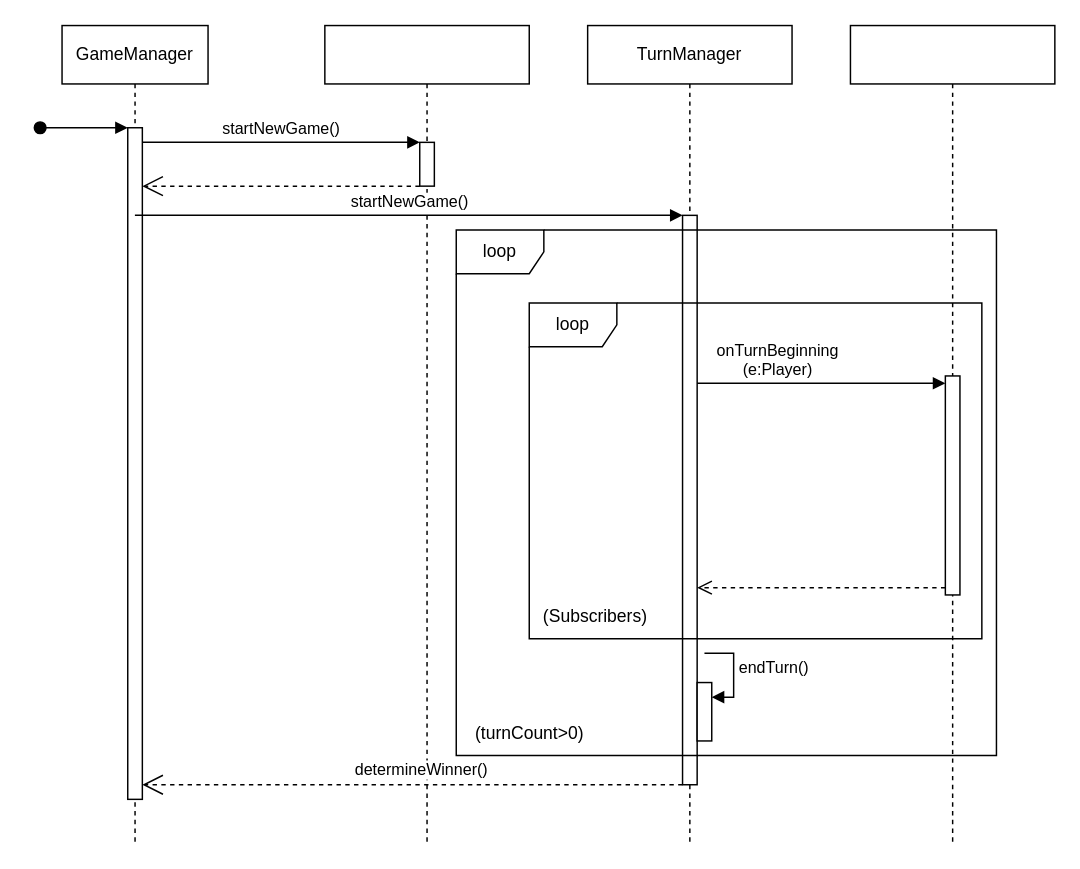
The diagram is 1080 pixels wide and 869 high, and some of its shapes have lost their labels. The box of each missing label's shape, as (x1, y1, x2, y2) in pixels:
Board: (323, 24, 529, 843)
TurnBeginningSubscriber: (849, 24, 1055, 843)
